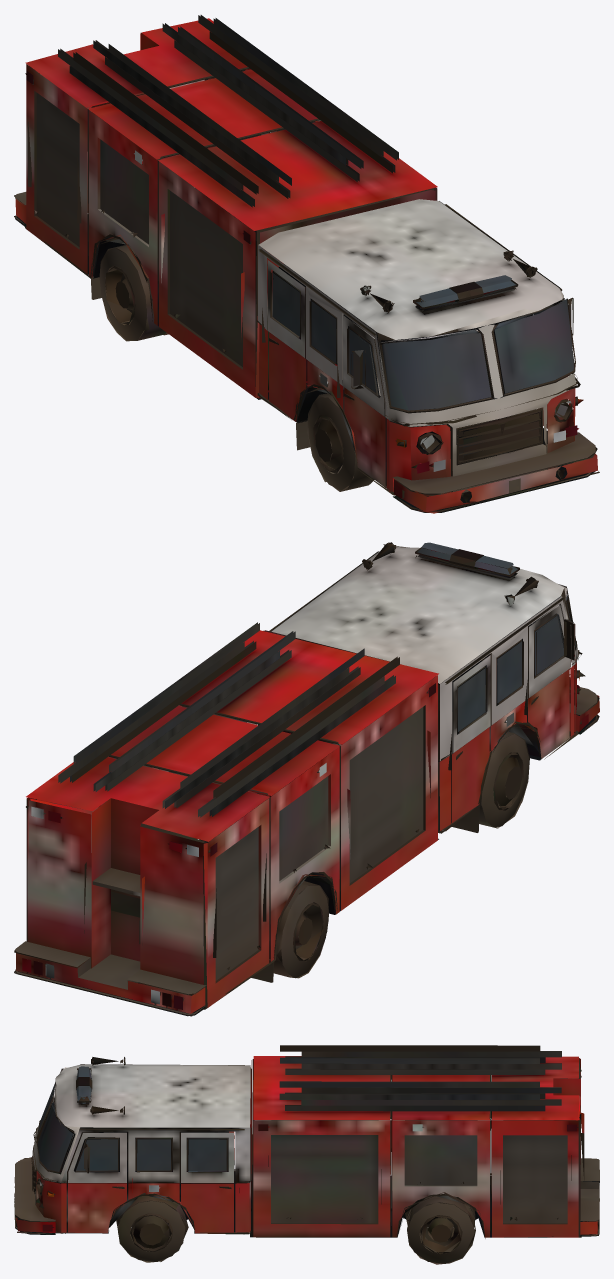
File: pack-fire-truck-L2.glb
3 views of the same model, one above another, from view 1: azimuth 30°, elevation 25°; view 2: azimuth 150°, elevation 25°; view 3: azimuth 270°, elevation 25° (orthographic). The views are drawn at different scales.
Visible parts, largest first — view 1: body; view 2: body; view 3: body.
Boxes of the visible parts, x1,y1,x2,y2 form: body: [14, 15, 599, 513]; body: [14, 542, 599, 1016]; body: [14, 1045, 599, 1264].
Bounding box in the file's own units: 2.58 × 2.56 × 8.34.
Materials: 1 (1 with a texture image).
